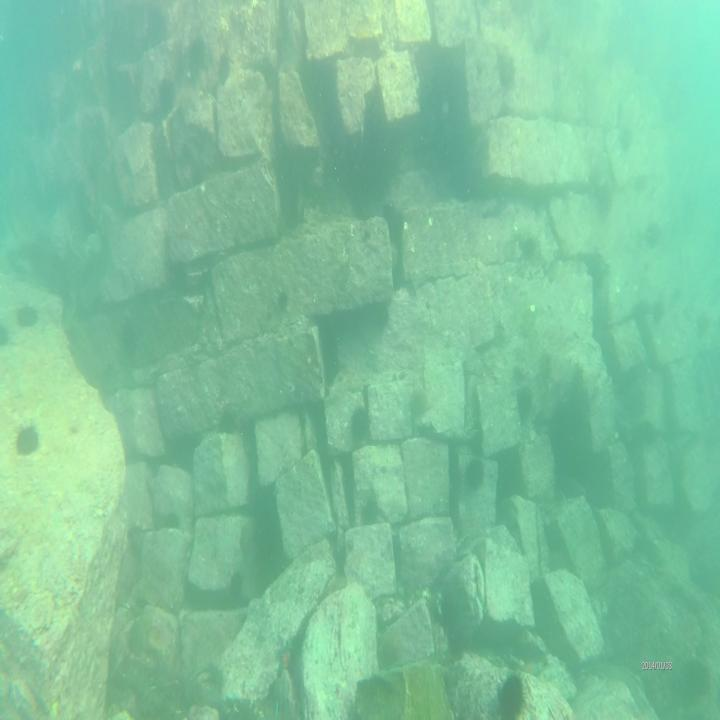echinus: (493, 667, 533, 720), (156, 77, 180, 121), (185, 30, 207, 76), (16, 417, 40, 458), (350, 402, 372, 446), (463, 453, 485, 495), (125, 522, 149, 558), (636, 417, 659, 454), (377, 197, 400, 234), (594, 175, 614, 217), (119, 311, 141, 349), (523, 226, 544, 265), (645, 212, 664, 254), (498, 54, 517, 96), (410, 387, 430, 424), (216, 408, 236, 445), (516, 382, 534, 423), (693, 302, 713, 338), (16, 299, 40, 329), (618, 119, 636, 158), (214, 50, 231, 90), (227, 567, 243, 605), (649, 296, 666, 330), (363, 492, 379, 528), (162, 508, 182, 532), (277, 291, 291, 316), (0, 317, 10, 351)
